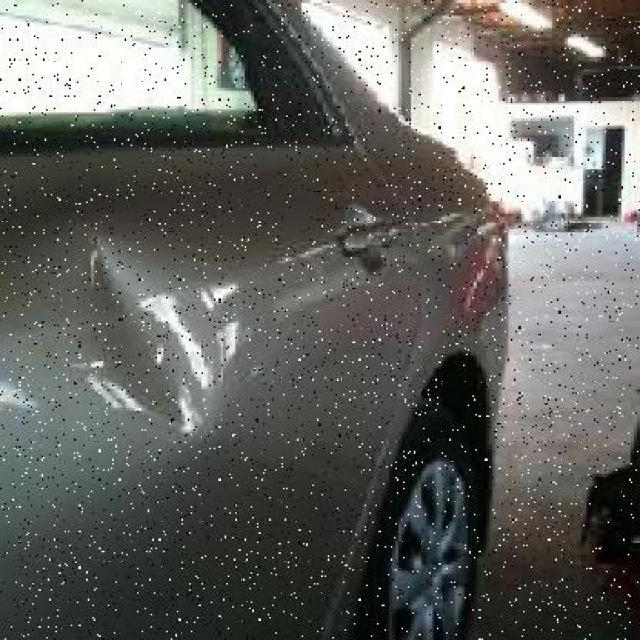car damage: (85, 237, 259, 431)
